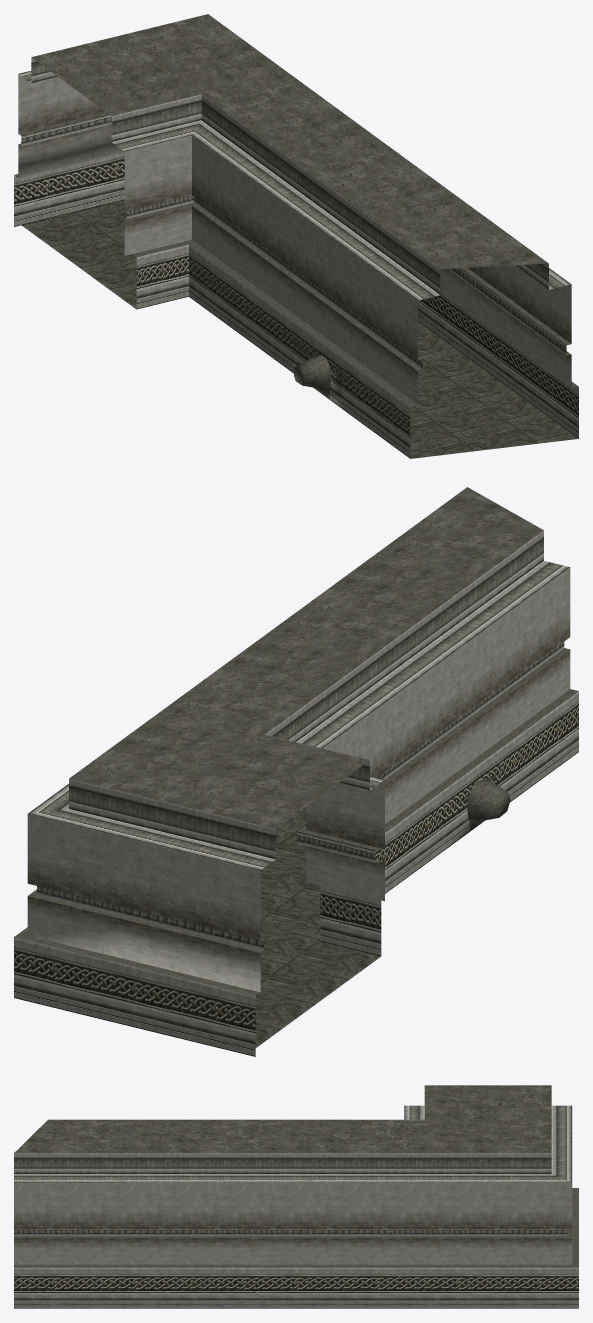
Rendered from DWARF_PALACE_FORGE_HALLWAY02A01.fbx.
3 renders of one model, top to bottom at view 1: azimuth 30°, elevation 25°; view 2: azimuth 150°, elevation 25°; view 3: azimuth 270°, elevation 25°, orthographic. The views are drawn at different scales.
Visible parts, largest first — view 1: DWARF_PALACE_FORGE_HALLWAY02A01; view 2: DWARF_PALACE_FORGE_HALLWAY02A01; view 3: DWARF_PALACE_FORGE_HALLWAY02A01.
Boxes of the visible parts, bbox=[...] form: DWARF_PALACE_FORGE_HALLWAY02A01: bbox=[14, 14, 578, 458]; DWARF_PALACE_FORGE_HALLWAY02A01: bbox=[14, 487, 578, 1056]; DWARF_PALACE_FORGE_HALLWAY02A01: bbox=[14, 1085, 578, 1308].
Size of the model in its own units: 83004 by 70000 by 249000.
Materials: 7 (7 with a texture image).
